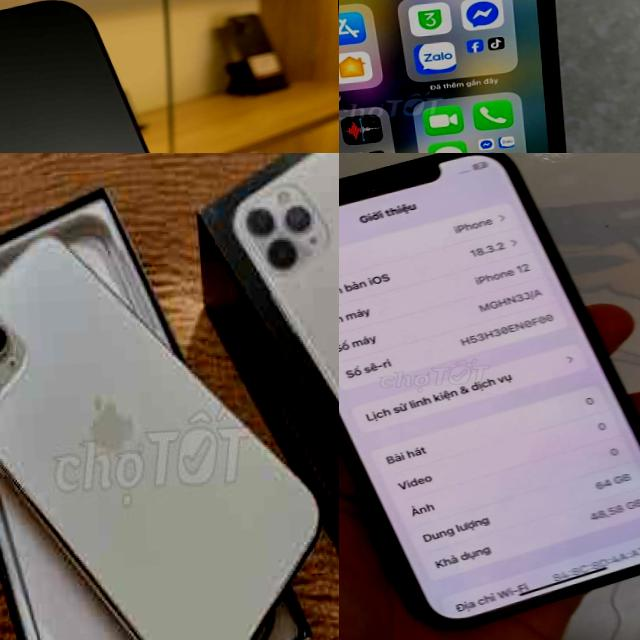gen_11: (0, 212, 337, 640)
gen_12_13: (339, 153, 640, 639), (0, 0, 248, 153)
gen_6: (339, 0, 565, 153)
